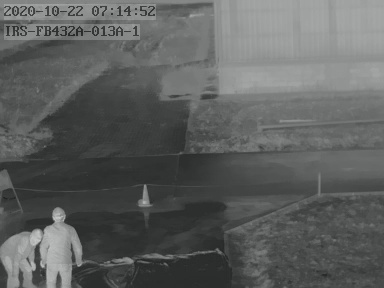person: (39, 203, 81, 288), (2, 226, 41, 288)
